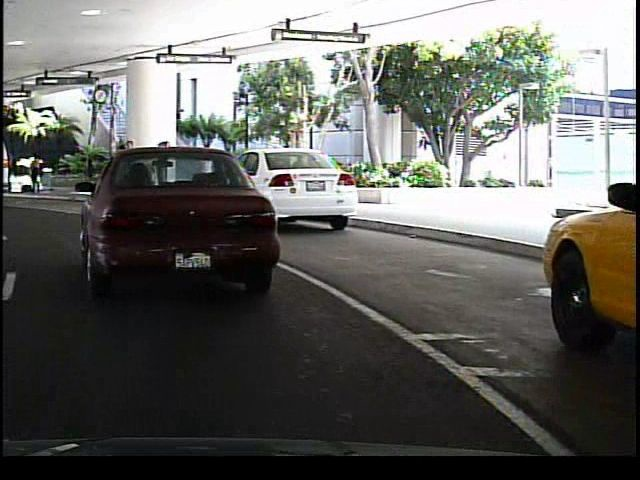person: (115, 136, 138, 199), (192, 142, 217, 193), (152, 138, 173, 195), (25, 153, 50, 197)
